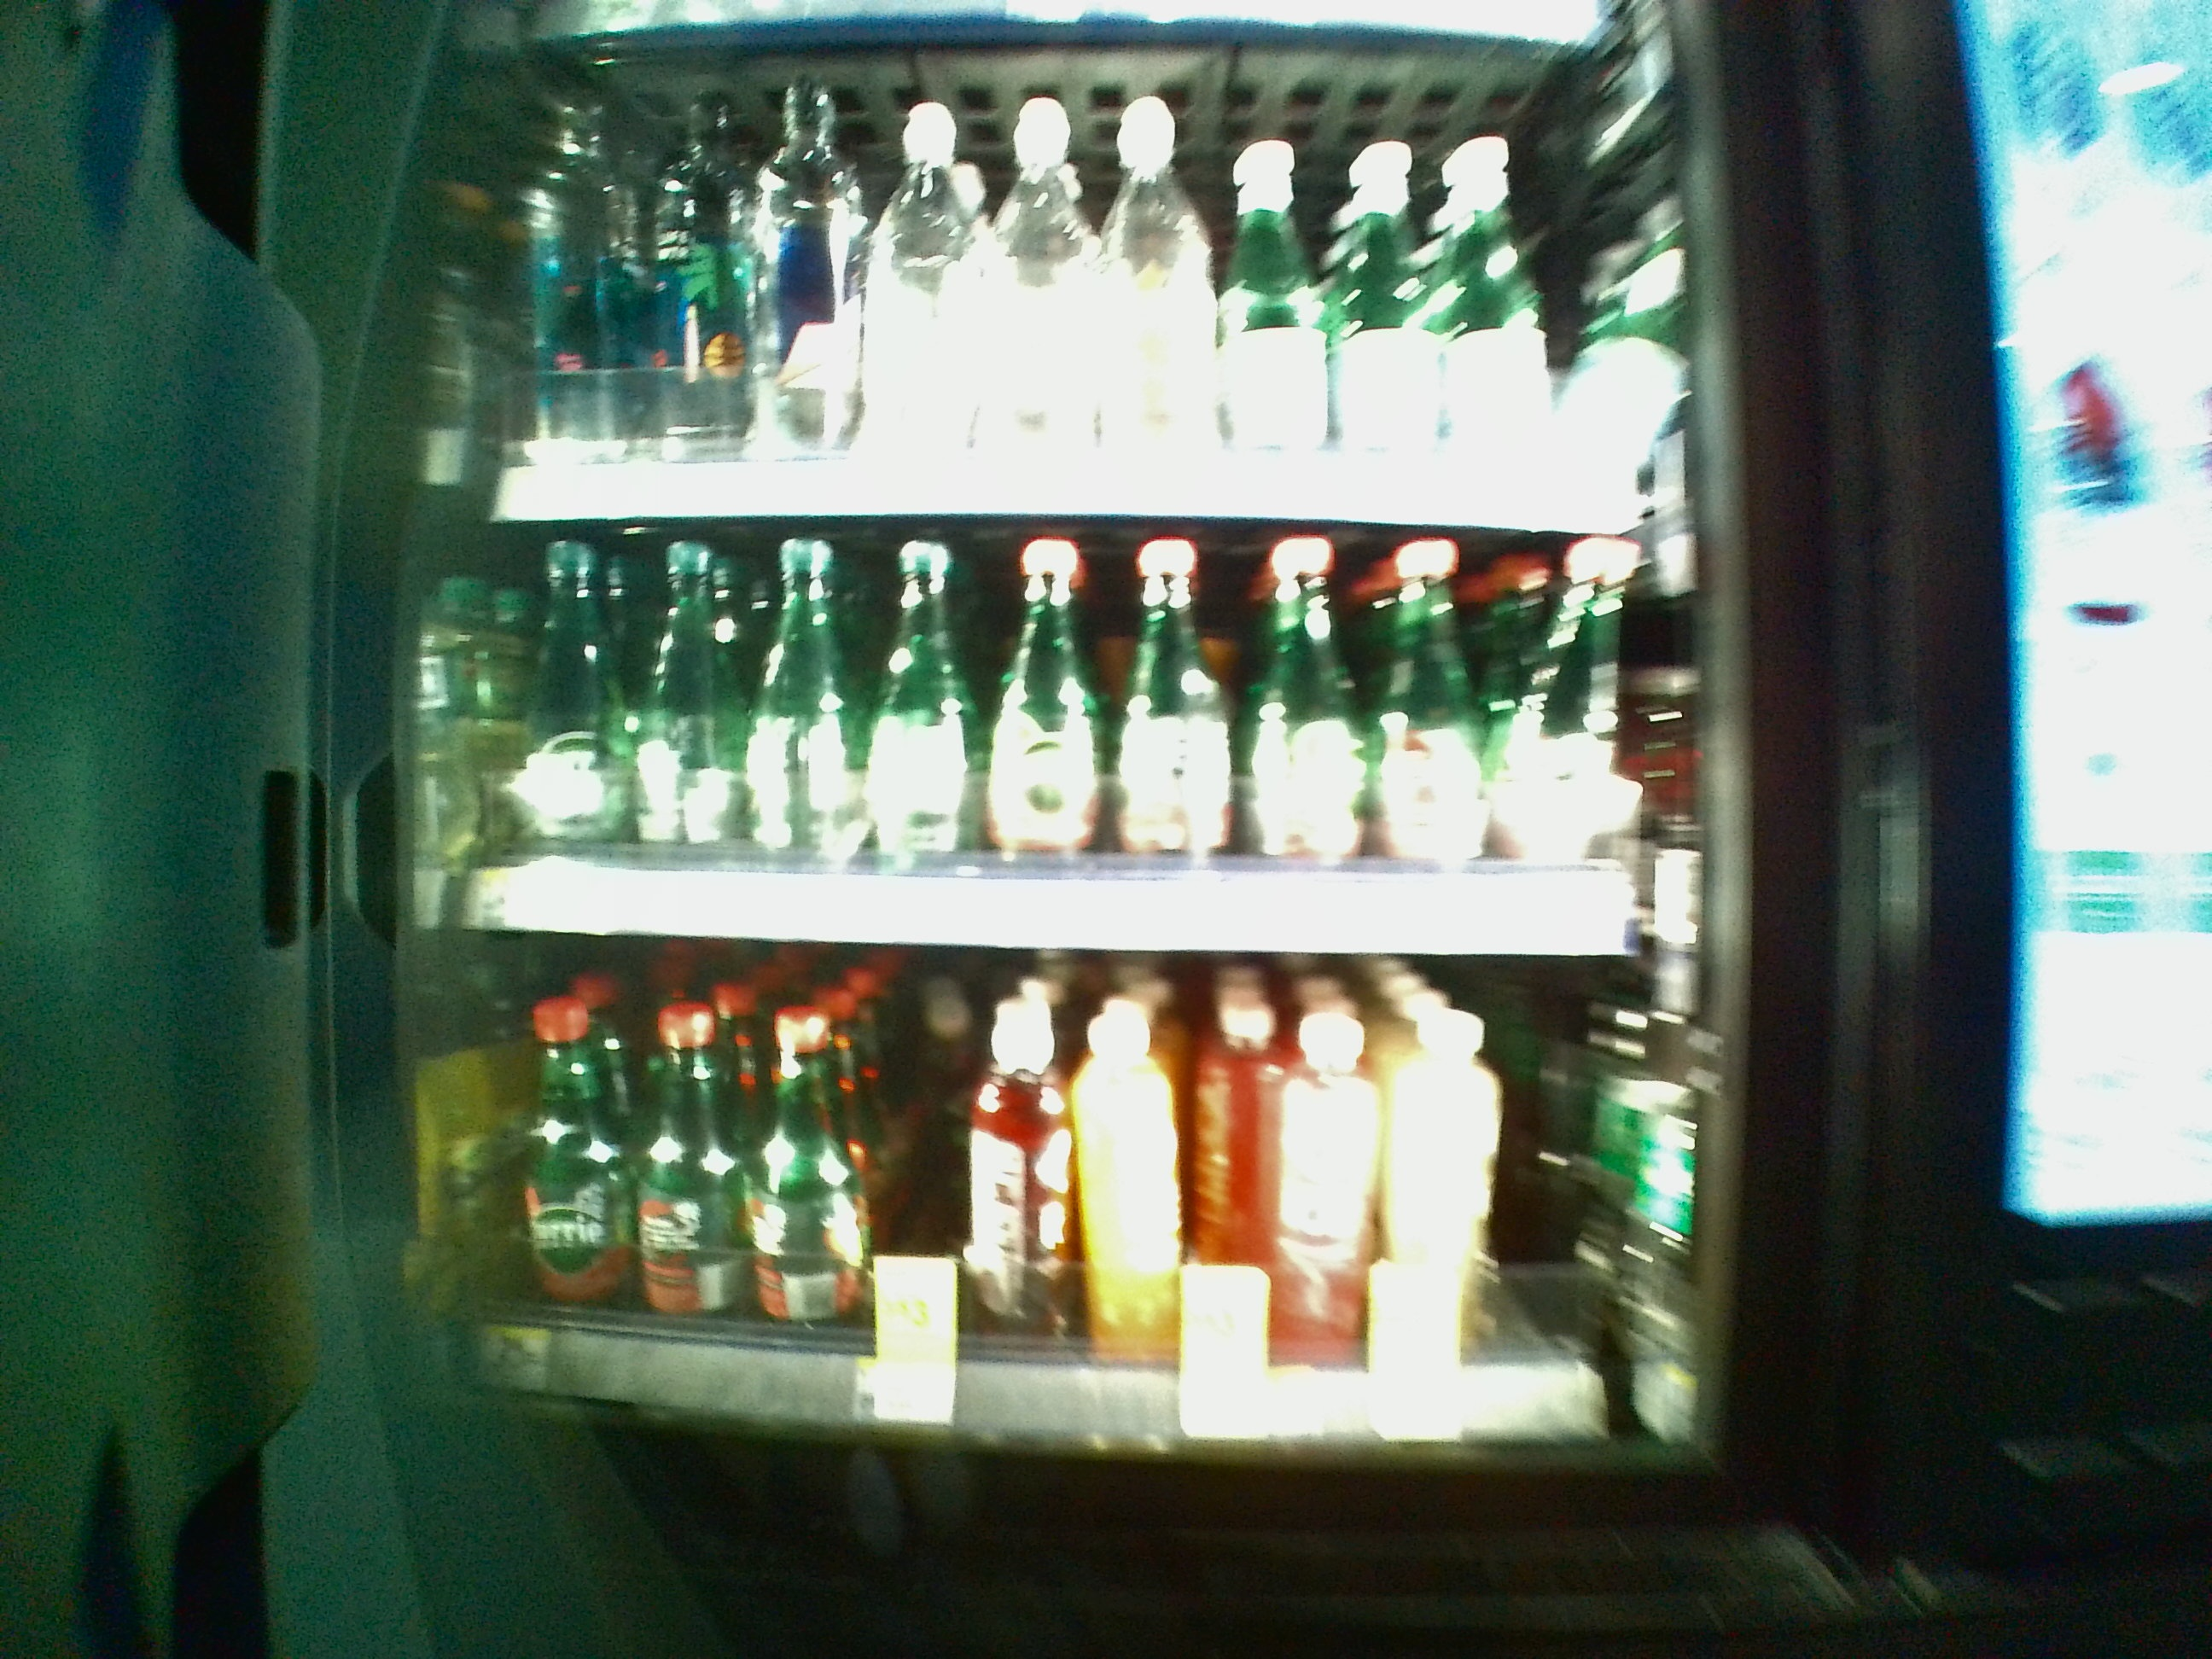Shelf: (421, 953, 1714, 1459), (425, 521, 1696, 957)
